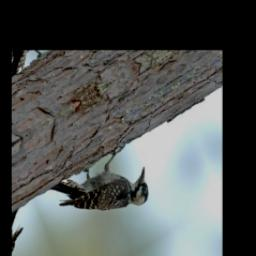Woodpecker: (45, 130, 158, 250)
